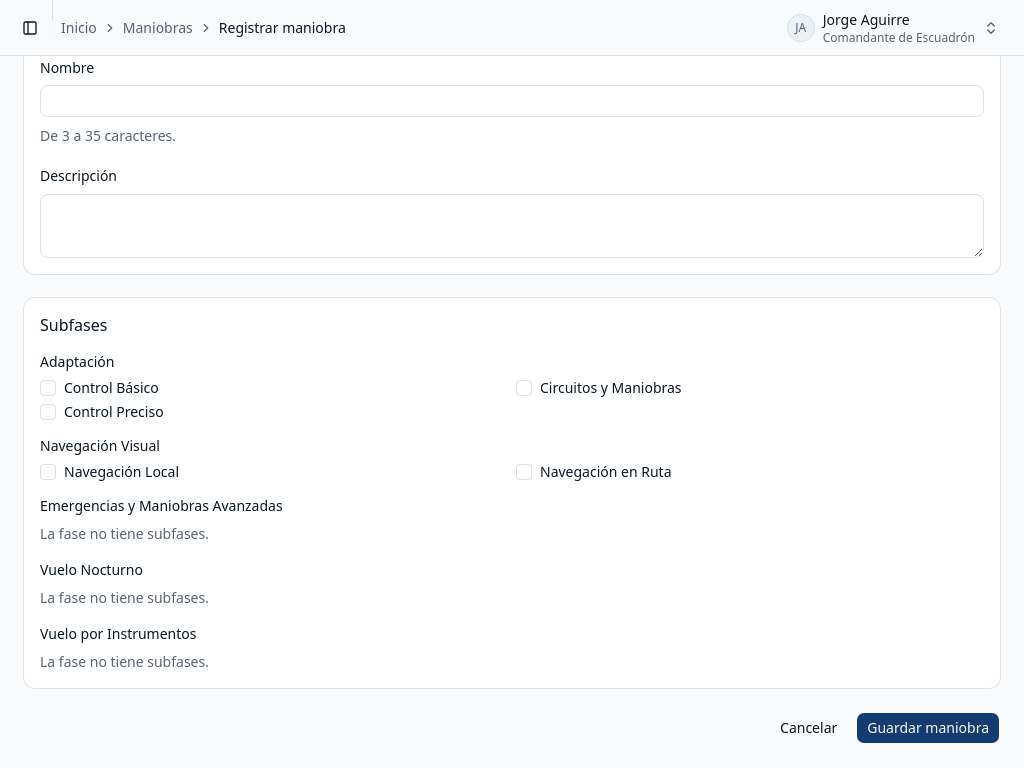
Formulario de maniobra › CA-MAN-02 exige el nombre y al menos una subfase
(page scrolled)
Check: the field labelled "Nombre" is shown, box [40,85,984,117]
Click the button "Guardar maniobra". click: (928, 728)
box: [856,712,1000,744]
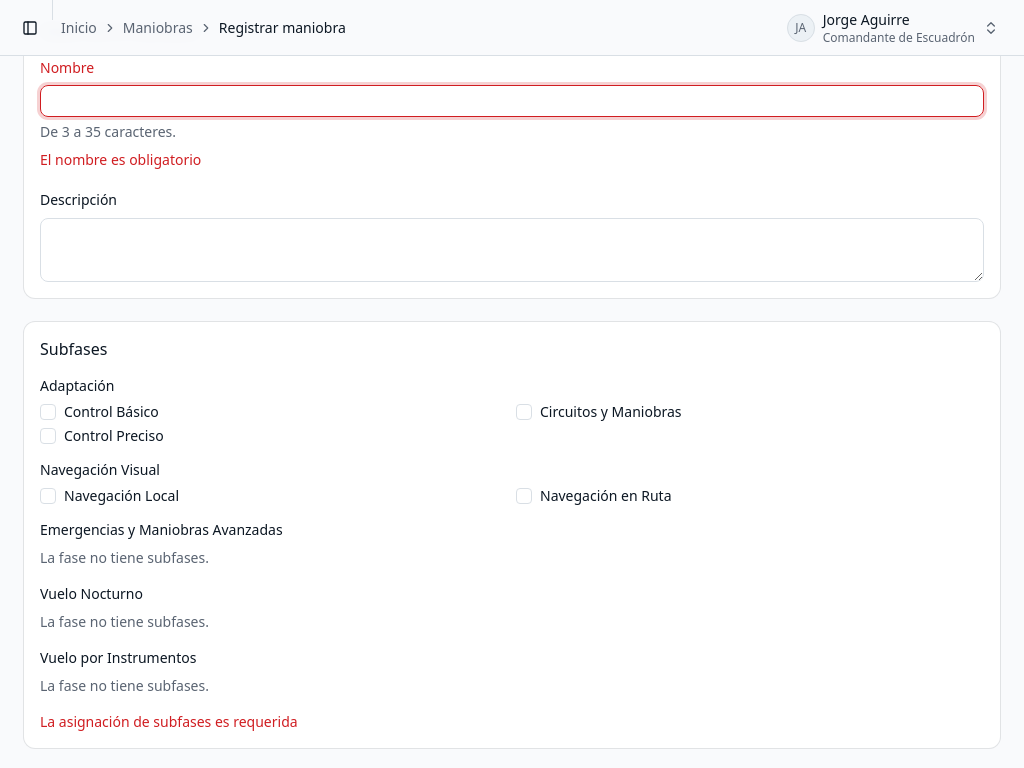
Check: the text "El nombre es obligatorio" is shown, box [40,150,201,169]
Check: the text "La asignación de subfases es requerida" is shown, box [40,712,298,730]
